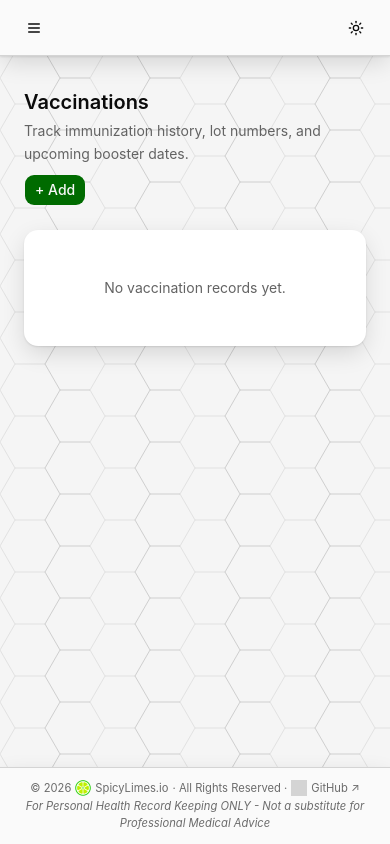
Test case: VaccinationsPage › admin can add a vaccination
Click the button "+ Add". click: {"x": 55, "y": 190}
box: [24, 174, 86, 206]
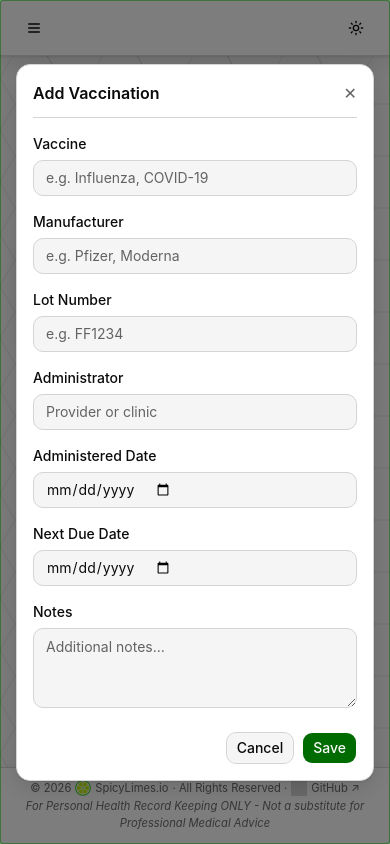
Type "COVID-19" into the field labelled "Vaccine". click: {"x": 195, "y": 178}
box: [33, 160, 357, 196]
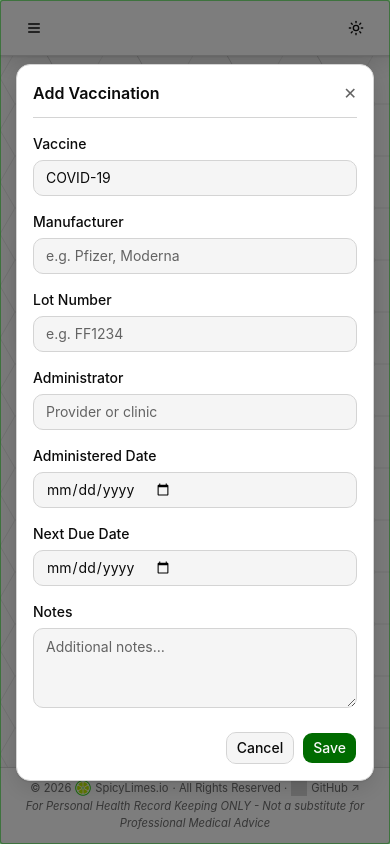
Admin submit label is "Save" ("Submit for Approval" for contributors)
Click the button "Save". click: {"x": 330, "y": 748}
box: [302, 732, 357, 764]
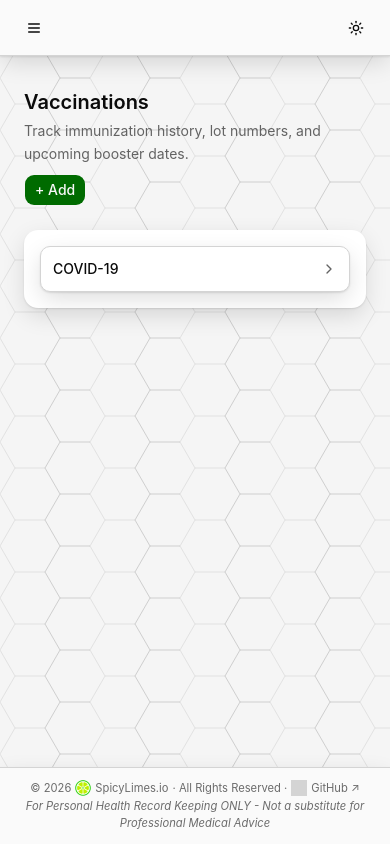
Result: the text "COVID-19" is shown at [53, 258, 118, 278]
